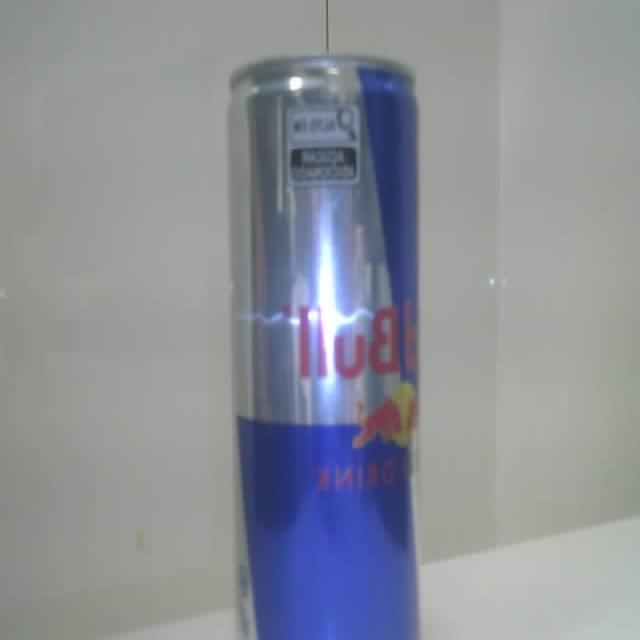redbull can: (229, 56, 418, 639)
